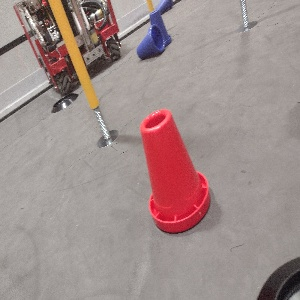Red_1: (132, 107, 211, 234)
